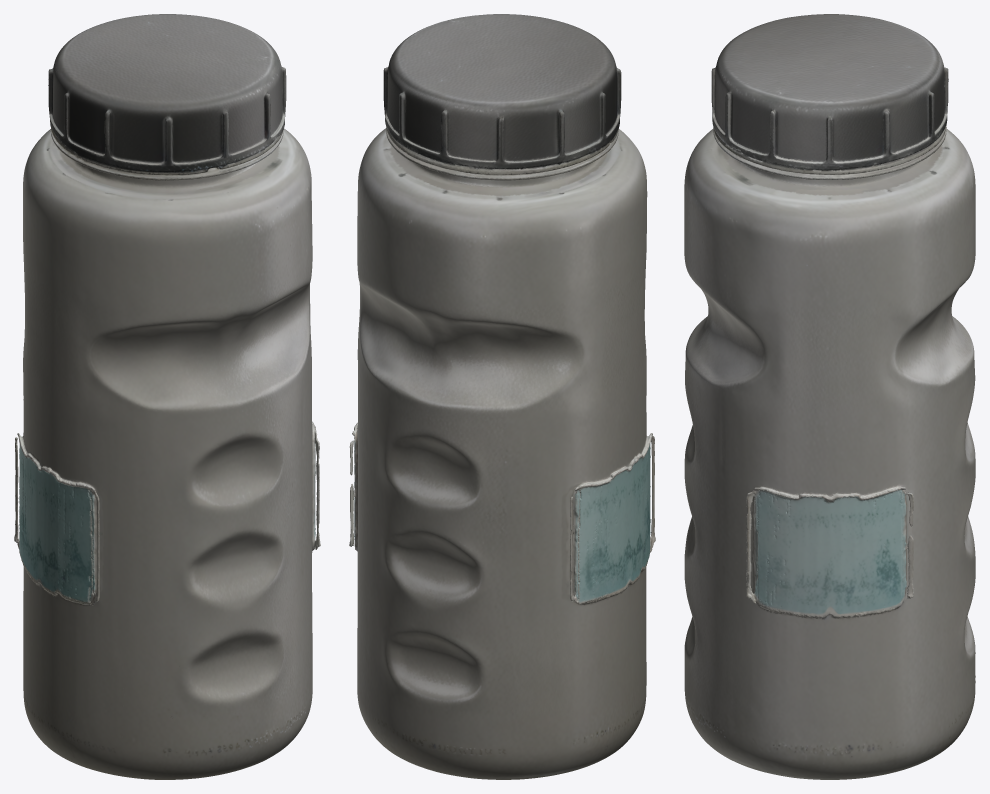
File: WaterBottle.glb
The picture shows the model from 3 angles, left to right: view 1: azimuth 30°, elevation 25°; view 2: azimuth 150°, elevation 25°; view 3: azimuth 270°, elevation 25°; orthographic projection.
Visible parts, largest first — view 1: texture_mapping; view 2: texture_mapping; view 3: texture_mapping.
Part boxes in pixels (x1,y1,x2,y2): texture_mapping: (14, 14, 320, 779); texture_mapping: (349, 14, 655, 779); texture_mapping: (684, 14, 975, 779).
Bounding box in the file's own units: 0.4023 × 0.9994 × 0.3913.
1 material, 1 textured.
